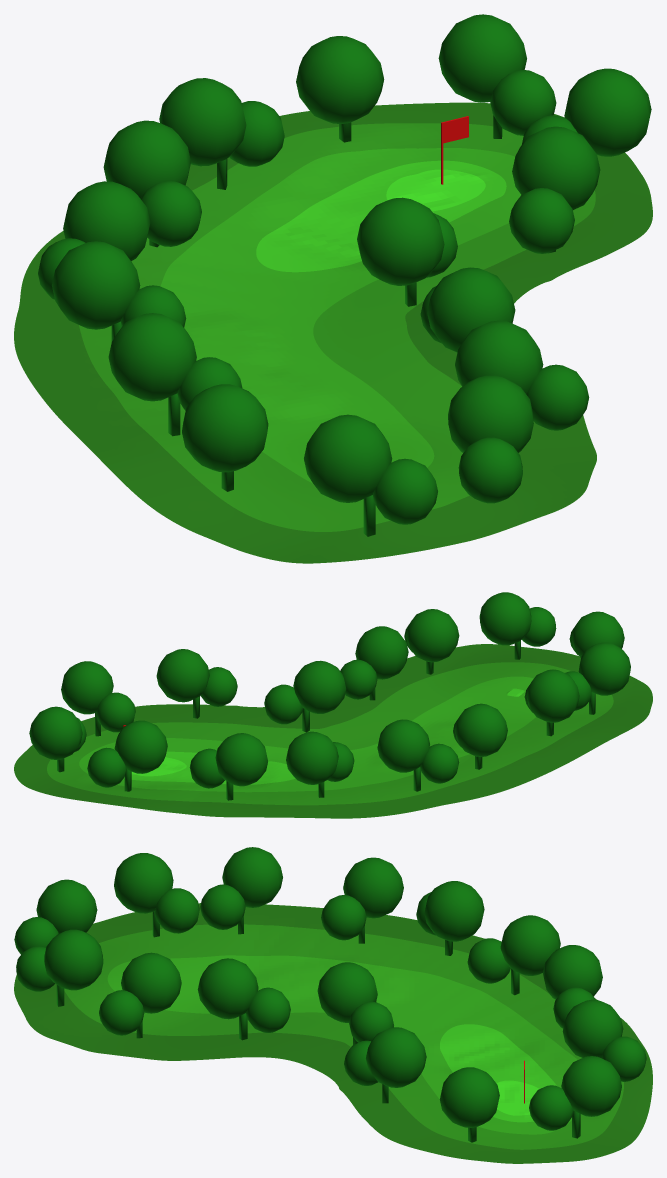
The model's file is bend.glb.
3 views of the same model, one above another, from view 1: azimuth 30°, elevation 25°; view 2: azimuth 150°, elevation 25°; view 3: azimuth 270°, elevation 25° (orthographic). The views are drawn at different scales.
Visible parts, largest first — view 1: OB, rough, heavy-rough, Sphere.003, Sphere.010, Sphere.008, Sphere.004, Sphere.012, Sphere.001, Sphere.013, Sphere, Sphere.005 (+10 smaller); view 2: OB, heavy-rough, rough, Sphere.014, Sphere.007, Sphere.011, Sphere.008, Sphere.009, Sphere.012, Sphere.004, Sphere.006, Sphere.013 (+9 smaller); view 3: OB, heavy-rough, rough, Sphere.010, Sphere.006, Sphere.002, Sphere.001, Sphere.013, Sphere, Sphere.005, Sphere.004, Sphere.011 (+9 smaller).
Part boxes in pixels (bbox=[...]): OB: bbox=[14, 102, 652, 563]; rough: bbox=[160, 148, 520, 483]; heavy-rough: bbox=[79, 123, 595, 531]; Sphere.003: bbox=[304, 414, 437, 536]; Sphere.010: bbox=[438, 14, 556, 138]; Sphere.008: bbox=[509, 126, 600, 253]; Sphere.004: bbox=[448, 375, 533, 503]; Sphere.012: bbox=[159, 78, 284, 189]; Sphere.001: bbox=[108, 313, 242, 436]; Sphere.013: bbox=[103, 120, 201, 247]; Sphere: bbox=[52, 241, 186, 341]; Sphere.005: bbox=[455, 320, 589, 430]; OB: bbox=[14, 644, 652, 818]; heavy-rough: bbox=[47, 662, 613, 805]; rough: bbox=[79, 676, 535, 792]; Sphere.014: bbox=[377, 719, 459, 791]; Sphere.007: bbox=[264, 660, 346, 732]; Sphere.011: bbox=[87, 720, 167, 791]; Sphere.008: bbox=[156, 649, 237, 718]; Sphere.009: bbox=[61, 661, 135, 736]; Sphere.012: bbox=[189, 733, 267, 800]; Sphere.004: bbox=[479, 592, 556, 659]; Sphere.006: bbox=[340, 626, 408, 700]; Sphere.013: bbox=[286, 731, 354, 797]; OB: bbox=[14, 903, 652, 1163]; heavy-rough: bbox=[64, 924, 623, 1149]; rough: bbox=[107, 955, 577, 1134]; Sphere.010: bbox=[529, 1056, 621, 1138]; Sphere.006: bbox=[197, 958, 290, 1040]; Sphere.002: bbox=[114, 853, 199, 937]; Sphere.001: bbox=[200, 847, 282, 934]; Sphere.013: bbox=[467, 915, 560, 995]; Sphere: bbox=[321, 857, 403, 943]; Sphere.005: bbox=[99, 952, 181, 1038]; Sphere.004: bbox=[16, 929, 103, 1006]; Sphere.011: bbox=[562, 999, 646, 1081].
Bounding box in the file's own units: 0.9593 × 0.17 × 1.05.
